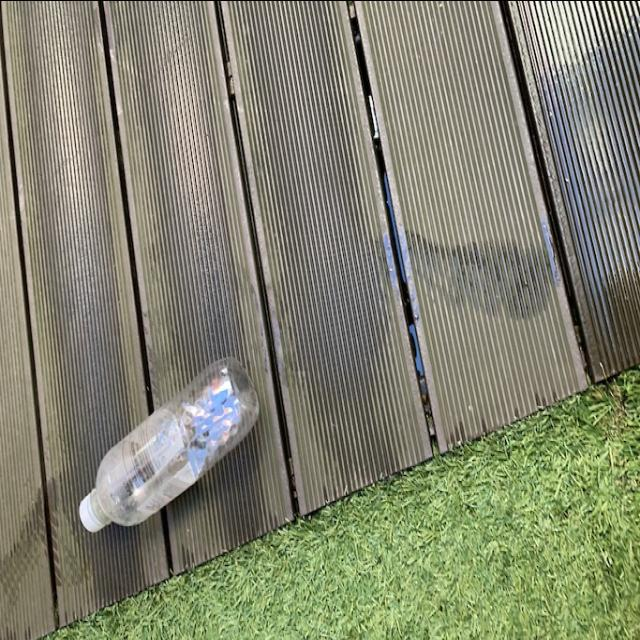PET: (78, 348, 268, 532)
